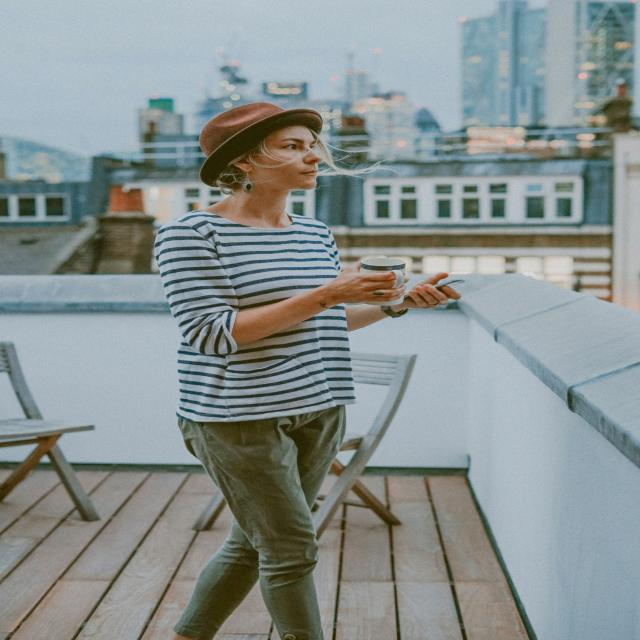adult: (151, 103, 457, 640)
